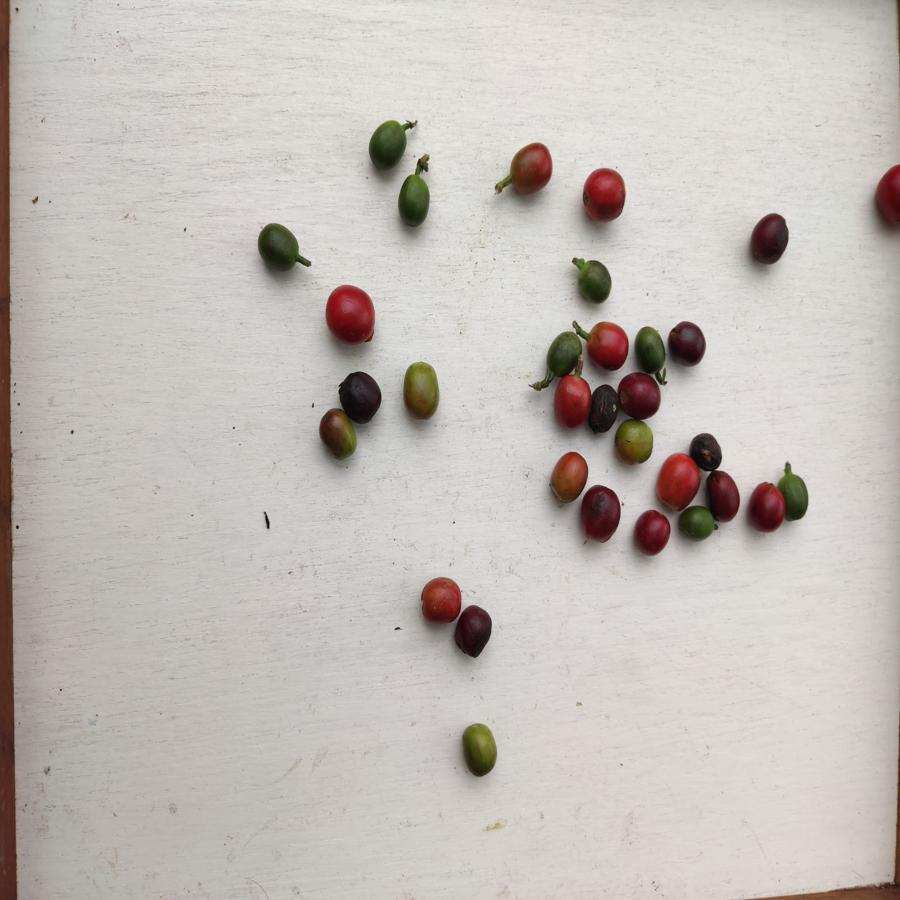Inmaduro: (253, 218, 305, 274), (365, 117, 409, 168), (635, 322, 671, 376), (397, 174, 432, 227), (575, 257, 613, 304), (543, 332, 583, 373), (675, 504, 717, 542), (785, 474, 815, 519)
Maduro: (323, 284, 382, 349), (579, 166, 629, 222), (413, 576, 464, 623), (657, 454, 699, 510), (586, 320, 630, 369), (555, 373, 591, 431), (873, 159, 900, 234), (631, 508, 671, 556)
Pinton: (395, 361, 445, 420), (505, 141, 555, 198), (547, 448, 587, 506), (319, 408, 358, 463), (463, 722, 501, 777), (614, 419, 654, 464)
Sobremaduro: (580, 483, 626, 544), (339, 367, 382, 423), (619, 371, 664, 422), (748, 211, 789, 266), (668, 321, 710, 368), (748, 480, 785, 532), (456, 603, 492, 655), (708, 472, 741, 524), (592, 383, 619, 434), (691, 429, 723, 471)
